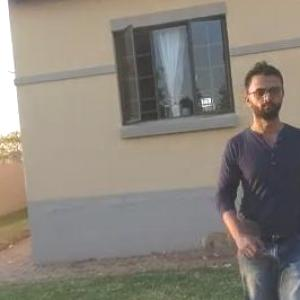follow: (211, 48, 299, 299)
